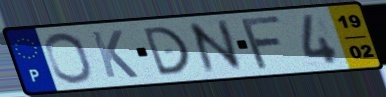4: (299, 11, 341, 67)
D: (140, 24, 194, 78)
F: (239, 13, 286, 72)
K: (88, 28, 141, 80)
N: (184, 17, 248, 77)
O: (42, 31, 96, 85)
